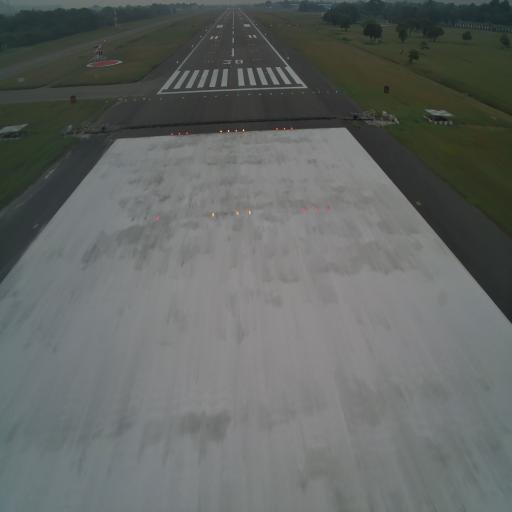off: (413, 197, 423, 210), (30, 221, 40, 232), (222, 208, 229, 221), (142, 213, 148, 223), (131, 214, 135, 226)
on: (154, 213, 162, 222), (314, 202, 320, 214), (325, 202, 332, 212), (235, 208, 241, 219), (211, 209, 216, 221), (247, 208, 253, 218), (302, 202, 306, 215), (226, 127, 231, 134), (186, 130, 189, 138), (219, 129, 223, 135), (234, 126, 238, 132), (276, 126, 280, 132), (170, 132, 174, 137), (290, 126, 294, 131), (283, 126, 286, 132), (178, 132, 181, 137), (242, 127, 245, 132)
